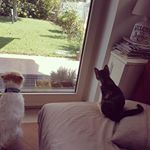puppy: (1, 69, 30, 149)
